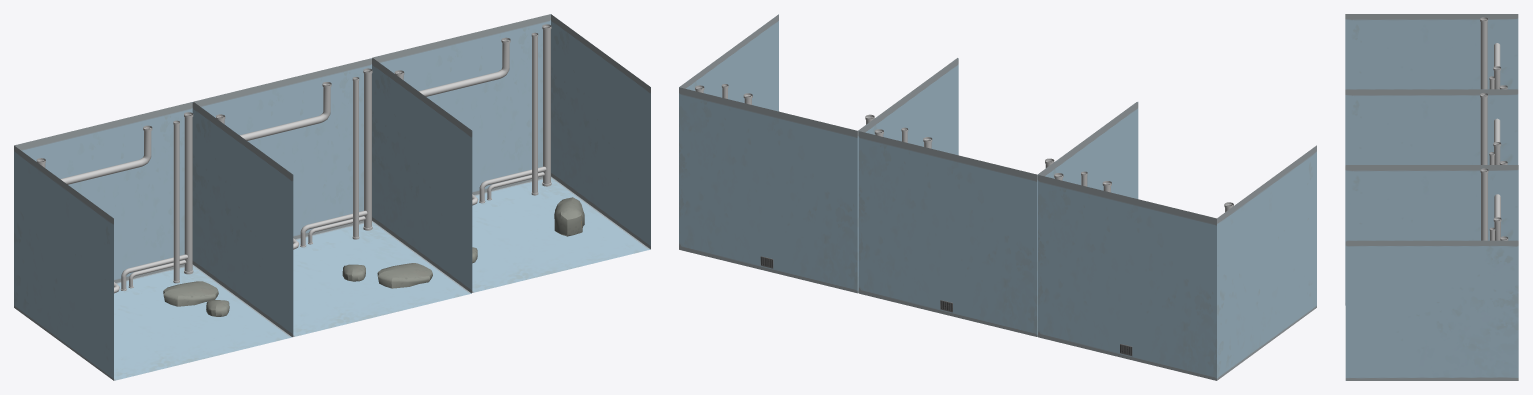
File: ExpLab_Interior00.fbx
3 views of the same model, side by side, from view 1: azimuth 30°, elevation 25°; view 2: azimuth 150°, elevation 25°; view 3: azimuth 270°, elevation 25° (orthographic). The views are drawn at different scales.
Parts seen in each view (by area): view 1: ExpLab_Interior00.001, ExpLab_Interior00.002, ExpLab_Interior00, ExpLab_Pipe07.001, ExpLab_Pipe07.002, ExpLab_Pipe07, ExpLab_Pipe06.001, Rock00, Rock00.001, Rock02.002, ExpLab_Pipe06, ExpLab_Pipe06.002 (+3 smaller); view 2: ExpLab_Interior00.001, ExpLab_Interior00, ExpLab_Interior00.002; view 3: ExpLab_Interior00.002, ExpLab_Interior00, ExpLab_Interior00.001, ExpLab_Pipe03.001, ExpLab_Pipe03, ExpLab_Pipe03.002, ExpLab_Pipe02.001, ExpLab_Pipe02, ExpLab_Pipe02.002.
Boxes of the visible parts, left/top/right/bottom form: ExpLab_Interior00.001: left=14, top=102, right=292, bottom=380; ExpLab_Interior00.002: left=372, top=14, right=650, bottom=292; ExpLab_Interior00: left=193, top=58, right=471, bottom=336; ExpLab_Pipe07.001: left=184, top=112, right=193, bottom=274; ExpLab_Pipe07.002: left=542, top=24, right=551, bottom=186; ExpLab_Pipe07: left=363, top=68, right=372, bottom=230; ExpLab_Pipe06.001: left=173, top=120, right=179, bottom=283; Rock00: left=377, top=263, right=432, bottom=288; Rock00.001: left=163, top=281, right=218, bottom=306; Rock02.002: left=554, top=197, right=584, bottom=236; ExpLab_Pipe06: left=352, top=77, right=359, bottom=239; ExpLab_Pipe06.002: left=531, top=32, right=538, bottom=195; ExpLab_Interior00.001: left=1038, top=102, right=1316, bottom=380; ExpLab_Interior00: left=858, top=58, right=1136, bottom=336; ExpLab_Interior00.002: left=679, top=14, right=957, bottom=293; ExpLab_Interior00.002: left=1345, top=165, right=1518, bottom=380; ExpLab_Interior00: left=1345, top=89, right=1518, bottom=305; ExpLab_Interior00.001: left=1345, top=14, right=1518, bottom=89; ExpLab_Pipe03.001: left=1480, top=17, right=1487, bottom=89; ExpLab_Pipe03: left=1480, top=93, right=1487, bottom=164; ExpLab_Pipe03.002: left=1480, top=168, right=1488, bottom=240; ExpLab_Pipe02.001: left=1493, top=43, right=1501, bottom=89; ExpLab_Pipe02: left=1493, top=118, right=1501, bottom=164; ExpLab_Pipe02.002: left=1493, top=194, right=1501, bottom=240.
Bounding box in the file's own units: 68.97 × 20.01 × 22.3.
